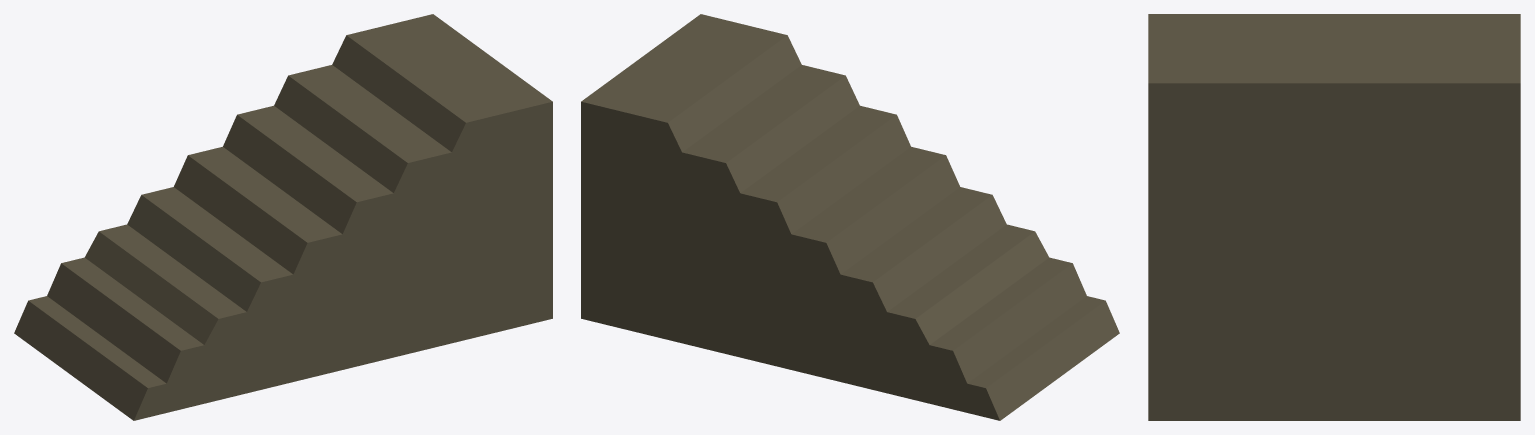
The model's file is RuinStairs01.fbx.
3 renders of one model, left to right at view 1: azimuth 30°, elevation 25°; view 2: azimuth 150°, elevation 25°; view 3: azimuth 270°, elevation 25°, orthographic. The views are drawn at different scales.
Visible parts, largest first — view 1: RuinStairs01; view 2: RuinStairs01; view 3: RuinStairs01.
Part boxes in pixels (x1,y1,x2,y2): RuinStairs01: [14, 14, 552, 420]; RuinStairs01: [581, 14, 1119, 420]; RuinStairs01: [1148, 14, 1520, 420].
Size of the model in its own units: 200 by 200 by 404.
